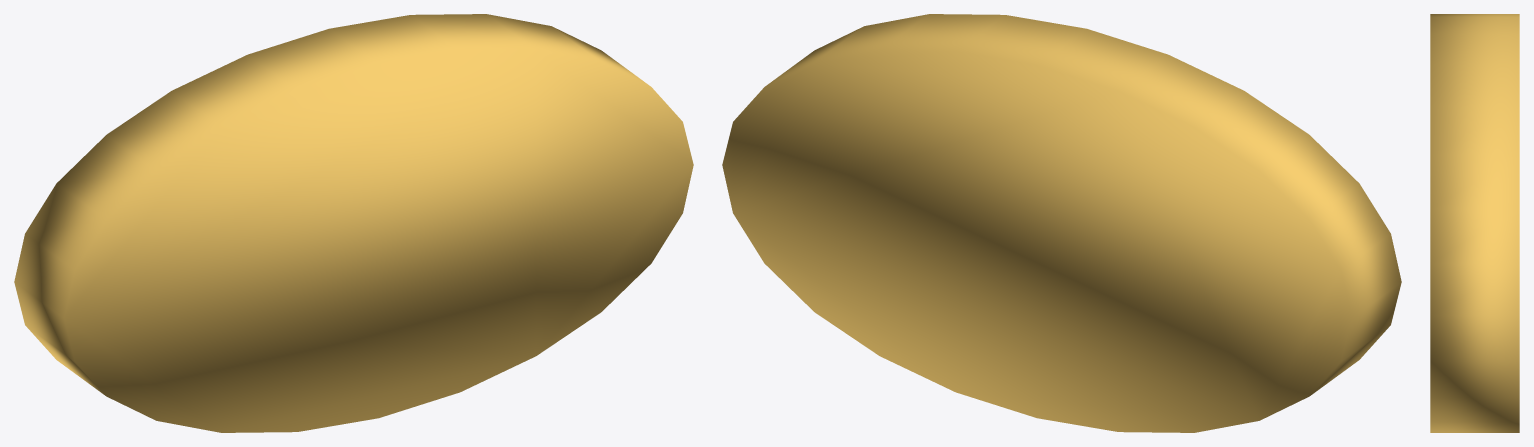
File: shape-oval-yellow.glb
3 renders of one model, left to right at view 1: azimuth 30°, elevation 25°; view 2: azimuth 150°, elevation 25°; view 3: azimuth 270°, elevation 25°, orthographic. The views are drawn at different scales.
Parts seen in each view (by area): view 1: solid oval; view 2: solid oval; view 3: solid oval.
Part boxes in pixels (x1,y1,x2,y2): solid oval: (14,14,693,432); solid oval: (722,14,1401,432); solid oval: (1430,14,1519,432).
Bounding box in the file's own units: 1.82 × 0.975 × 0.25.
